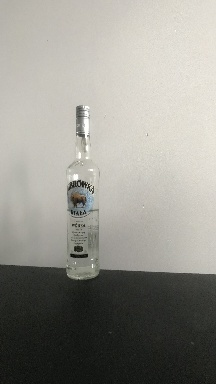butelka: (64, 101, 101, 283)
